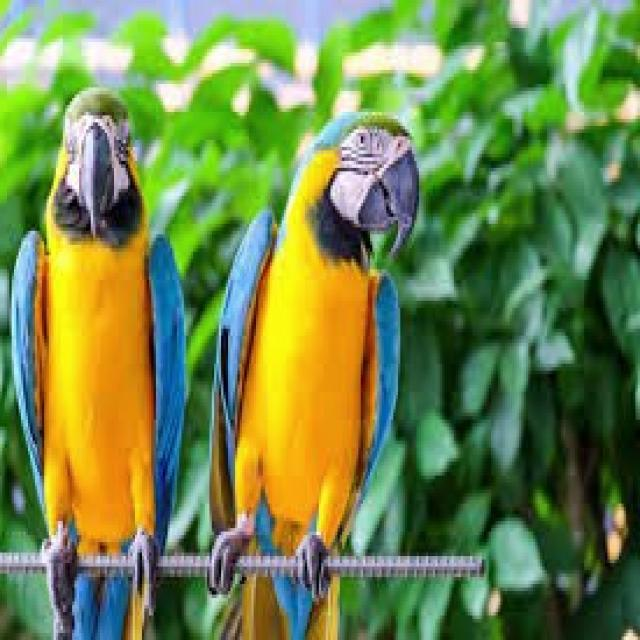parrot: (212, 112, 419, 637), (14, 87, 186, 637)
